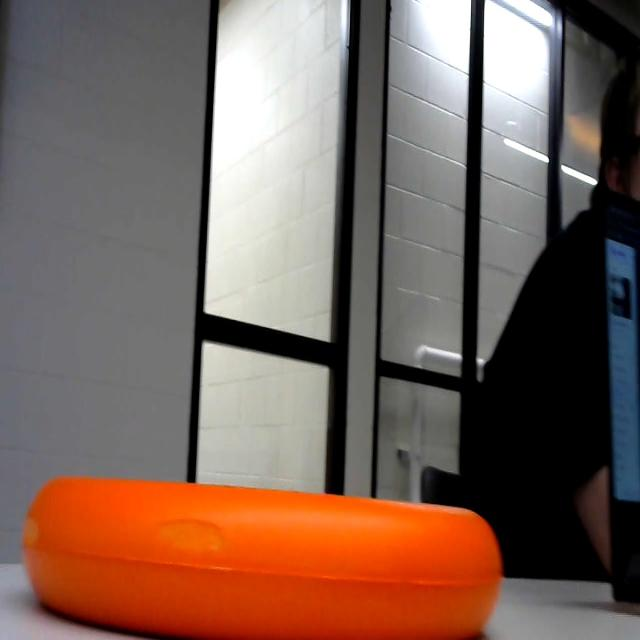note: (20, 464, 529, 640)
